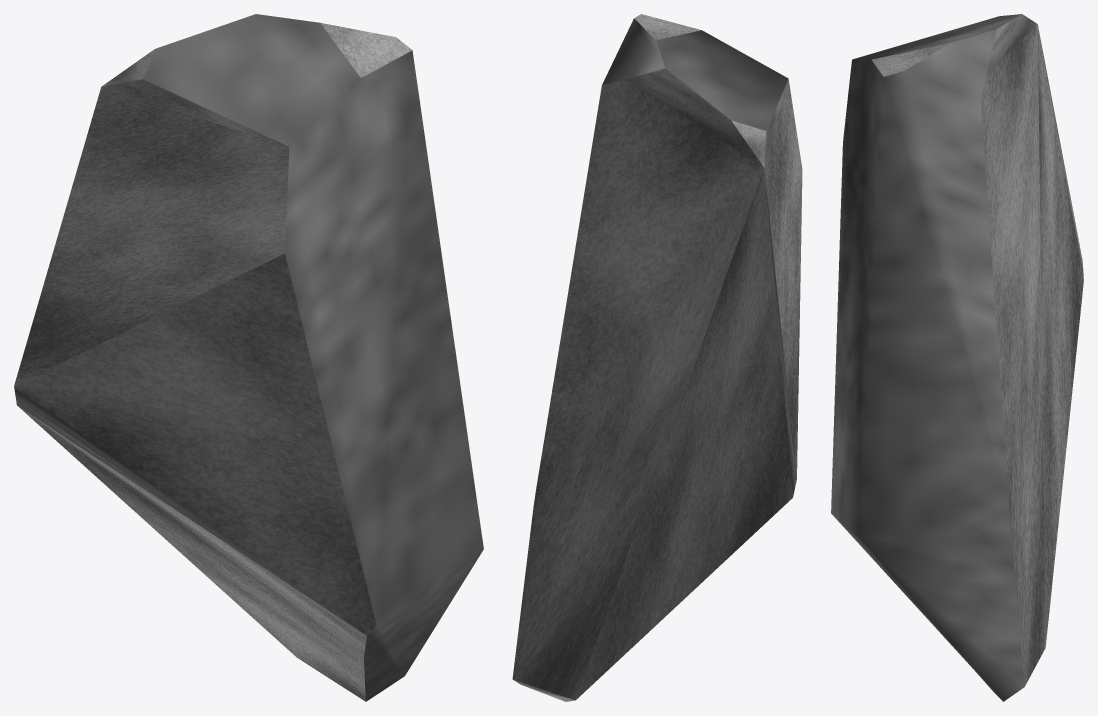
File: leg_2_cell_022.fbx
3 renders of one model, left to right at view 1: azimuth 30°, elevation 25°; view 2: azimuth 150°, elevation 25°; view 3: azimuth 270°, elevation 25°, orthographic. The views are drawn at different scales.
Visible parts, largest first — view 1: leg_2_cell.022; view 2: leg_2_cell.022; view 3: leg_2_cell.022.
Boxes of the visible parts, x1,y1,x2,y2 form: leg_2_cell.022: [14, 14, 483, 701]; leg_2_cell.022: [512, 14, 802, 701]; leg_2_cell.022: [831, 14, 1083, 701].
Size of the model in its own units: 22.28 by 44.15 by 16.33.
